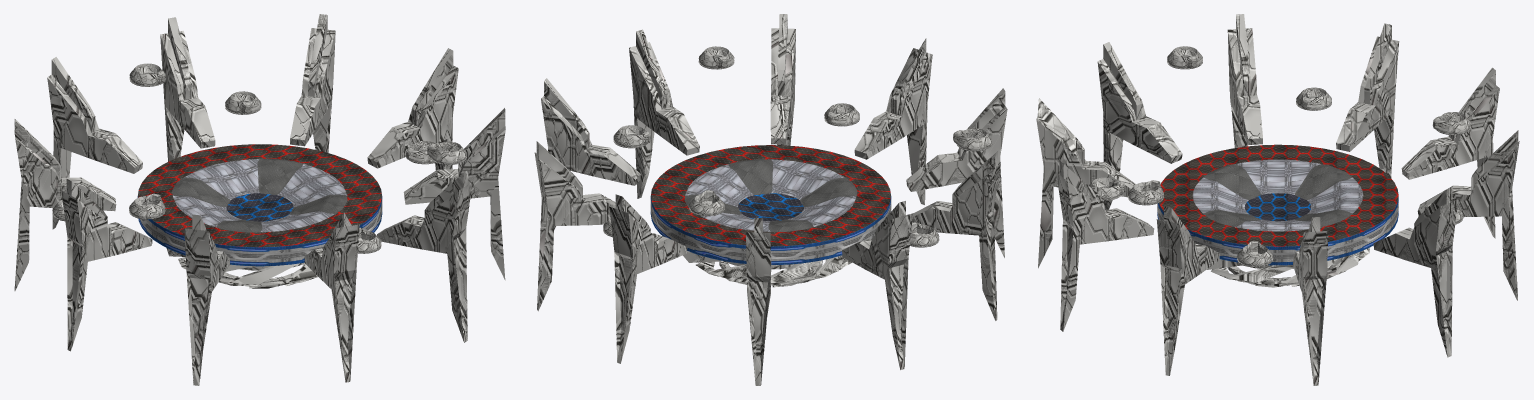
Rendered from Space_Arena_Rough02.fbx.
The picture shows the model from 3 angles, left to right: view 1: azimuth 30°, elevation 25°; view 2: azimuth 150°, elevation 25°; view 3: azimuth 270°, elevation 25°; orthographic projection.
Parts seen in each view (by area): view 1: Main_Arena_V012, Arena_Spike_Detail3, Arena_Spike_Detail6, Arena_Spike_Detail1, Arena_Spike_Detail2, Arena_Spike_Detail7, Arena_Spike_Detail, Arena_Spike_Detail8, Arena_Spike_Detail9, Arena_Spike_Detail4, Arena_Spike_Detail5, Bottom_Spiral (+6 smaller); view 2: Main_Arena_V012, Arena_Spike_Detail4, Arena_Spike_Detail6, Arena_Spike_Detail9, Arena_Spike_Detail2, Arena_Spike_Detail8, Arena_Spike_Detail7, Arena_Spike_Detail, Arena_Spike_Detail5, Arena_Spike_Detail1, Arena_Spike_Detail3, Bottom_Spiral (+6 smaller); view 3: Main_Arena_V012, Arena_Spike_Detail3, Arena_Spike_Detail9, Arena_Spike_Detail5, Arena_Spike_Detail7, Arena_Spike_Detail8, Arena_Spike_Detail1, Arena_Spike_Detail2, Arena_Spike_Detail4, Arena_Spike_Detail6, Arena_Spike_Detail, Bottom_Spiral (+6 smaller).
Part boxes in pixels (x1=…): Main_Arena_V012: x1=137, y1=144, x2=382, y2=266; Arena_Spike_Detail3: x1=377, y1=170, x2=472, y2=342; Arena_Spike_Detail6: x1=61, y1=179, x2=152, y2=351; Arena_Spike_Detail1: x1=47, y1=57, x2=142, y2=229; Arena_Spike_Detail2: x1=403, y1=108, x2=505, y2=280; Arena_Spike_Detail7: x1=14, y1=119, x2=116, y2=290; Arena_Spike_Detail: x1=367, y1=48, x2=458, y2=170; Arena_Spike_Detail8: x1=160, y1=17, x2=215, y2=161; Arena_Spike_Detail9: x1=290, y1=14, x2=335, y2=152; Arena_Spike_Detail4: x1=304, y1=212, x2=359, y2=382; Arena_Spike_Detail5: x1=184, y1=214, x2=229, y2=385; Bottom_Spiral: x1=166, y1=248, x2=317, y2=288; Main_Arena_V012: x1=650, y1=145, x2=891, y2=264; Arena_Spike_Detail4: x1=854, y1=38, x2=932, y2=204; Arena_Spike_Detail6: x1=912, y1=151, x2=1000, y2=320; Arena_Spike_Detail9: x1=534, y1=141, x2=615, y2=311; Arena_Spike_Detail2: x1=629, y1=29, x2=699, y2=198; Arena_Spike_Detail8: x1=609, y1=194, x2=687, y2=363; Arena_Spike_Detail7: x1=842, y1=201, x2=912, y2=369; Arena_Spike_Detail: x1=541, y1=78, x2=640, y2=229; Arena_Spike_Detail5: x1=906, y1=88, x2=1007, y2=257; Arena_Spike_Detail1: x1=746, y1=218, x2=771, y2=385; Arena_Spike_Detail3: x1=770, y1=14, x2=795, y2=145; Bottom_Spiral: x1=683, y1=251, x2=851, y2=287; Main_Arena_V012: x1=1157, y1=144, x2=1398, y2=265; Arena_Spike_Detail3: x1=1056, y1=161, x2=1154, y2=331; Arena_Spike_Detail9: x1=1373, y1=187, x2=1458, y2=357; Arena_Spike_Detail5: x1=1097, y1=42, x2=1182, y2=210; Arena_Spike_Detail7: x1=1336, y1=23, x2=1399, y2=177; Arena_Spike_Detail8: x1=1417, y1=130, x2=1519, y2=300; Arena_Spike_Detail1: x1=1401, y1=67, x2=1499, y2=238; Arena_Spike_Detail2: x1=1156, y1=206, x2=1219, y2=375; Arena_Spike_Detail4: x1=1036, y1=98, x2=1135, y2=268; Arena_Spike_Detail6: x1=1227, y1=14, x2=1262, y2=147; Arena_Spike_Detail: x1=1293, y1=217, x2=1328, y2=385; Bottom_Spiral: x1=1206, y1=247, x2=1370, y2=287.
Size of the model in its own units: 17812 by 6866 by 17807.
